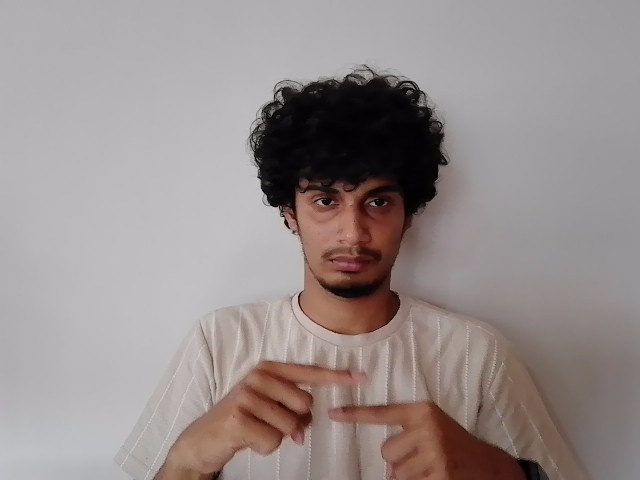about: (186, 360, 524, 480)
